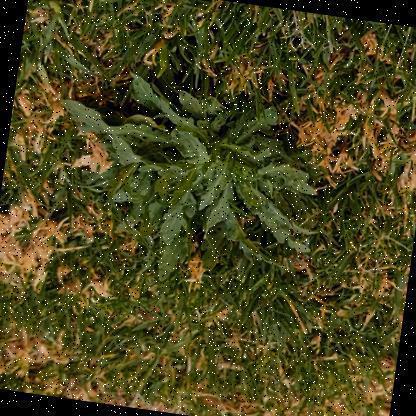Weeds: (38, 64, 332, 301)
